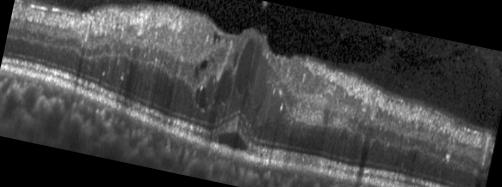intraretinal_cyst: (234, 38, 255, 94), (214, 65, 232, 104), (249, 45, 261, 88), (195, 87, 209, 110), (242, 87, 249, 105), (213, 31, 220, 43), (232, 53, 238, 67), (200, 59, 208, 69), (194, 66, 199, 77)
subretinal_fluid: (218, 132, 247, 150)
